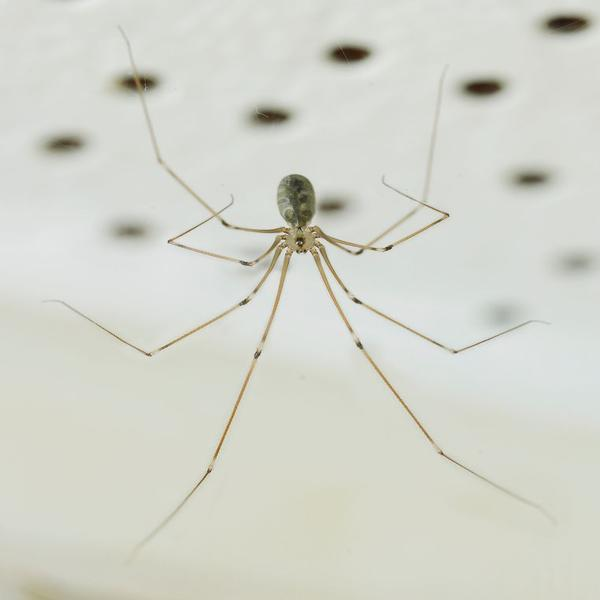Daddy Long Legs Spider: (88, 31, 549, 528)
